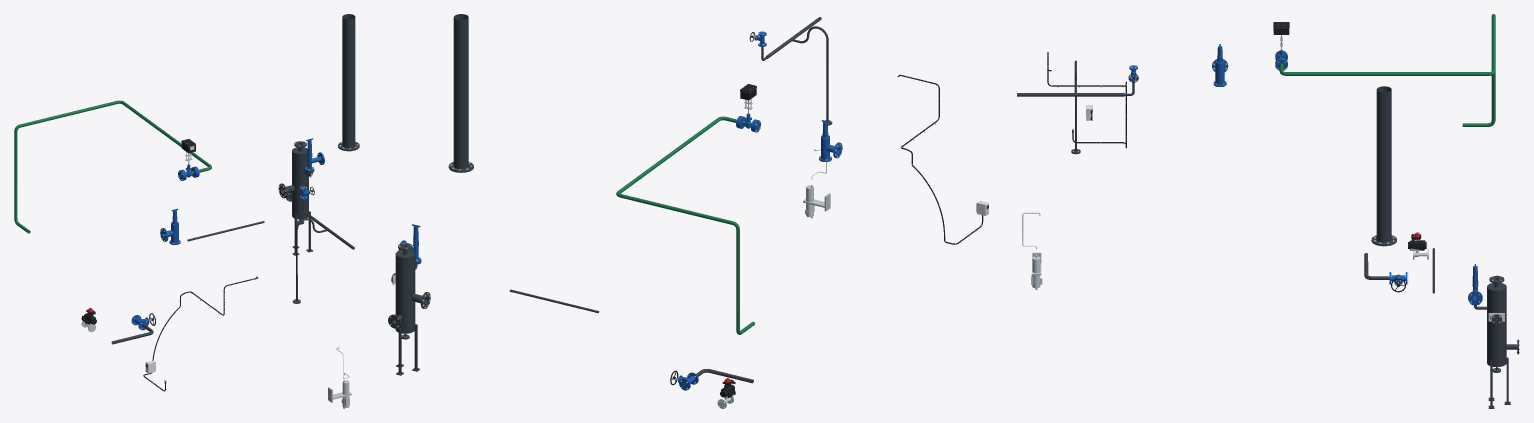
File: s4000-5-Cu8lxOyN.glb
3 renders of one model, left to right at view 1: azimuth 30°, elevation 25°; view 2: azimuth 150°, elevation 25°; view 3: azimuth 270°, elevation 25°, orthographic. The views are drawn at different scales.
Visible parts, largest first — view 1: bdv_vent / dark, separator_fv8 / dark, from_economizer / green, pressure_header / dark, wiring_lcs600 / black, safety_2 / blue; view 2: bdv_vent / dark, separator_fv8 / dark, from_economizer / green, pressure_header / dark; view 3: bdv_vent / dark, separator_fv8 / dark, from_economizer / green, pressure_header / dark, wiring_lcs600 / black.
Boxes of the visible parts, <box> form: bdv_vent / dark: <box>338,14,359,151</box>; separator_fv8 / dark: <box>278,141,313,255</box>; from_economizer / green: <box>14,100,211,233</box>; pressure_header / dark: <box>292,200,354,303</box>; wiring_lcs600 / black: <box>143,276,258,391</box>; safety_2 / blue: <box>160,208,180,244</box>; bdv_vent / dark: <box>448,14,473,172</box>; separator_fv8 / dark: <box>388,243,430,375</box>; from_economizer / green: <box>616,116,755,334</box>; pressure_header / dark: <box>761,17,832,125</box>; bdv_vent / dark: <box>1371,86,1396,246</box>; separator_fv8 / dark: <box>1470,275,1518,408</box>; from_economizer / green: <box>1279,14,1495,126</box>; pressure_header / dark: <box>1017,60,1134,154</box>; wiring_lcs600 / black: <box>1047,52,1126,148</box>.
Size of the model in its own units: 5.1 by 3.85 by 5.58.
